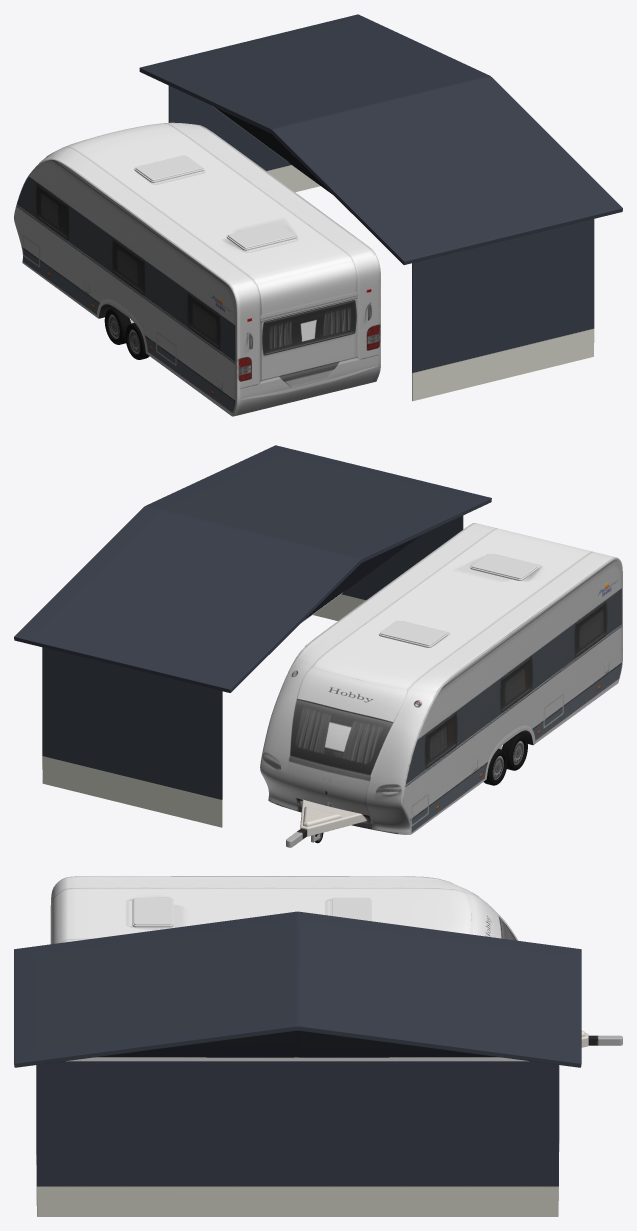
The model's file is Van and house.gltf.
The picture shows the model from 3 angles, top to bottom: view 1: azimuth 30°, elevation 25°; view 2: azimuth 150°, elevation 25°; view 3: azimuth 270°, elevation 25°; orthographic projection. The views are drawn at different scales.
Visible parts, largest first — view 1: pCube8, pCube1, polySurface1; view 2: pCube8, pCube1, polySurface1; view 3: pCube8, pCube1, polySurface1.
Part boxes in pixels (<box>): pCube8: <box>139,14,622,401</box>; pCube1: <box>14,122,380,416</box>; polySurface1: <box>104,155,296,359</box>; pCube8: <box>14,445,491,827</box>; pCube1: <box>260,523,622,834</box>; polySurface1: <box>286,553,538,847</box>; pCube8: <box>14,911,581,1216</box>; pCube1: <box>50,876,518,944</box>; polySurface1: <box>132,897,622,1047</box>.
Bounding box in the file's own units: 0.4677 × 0.2267 × 0.6235.
Materials: 3 (3 with a texture image).
